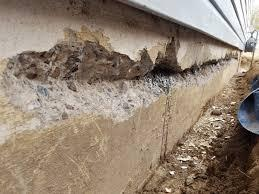spalling: (0, 25, 233, 129)
